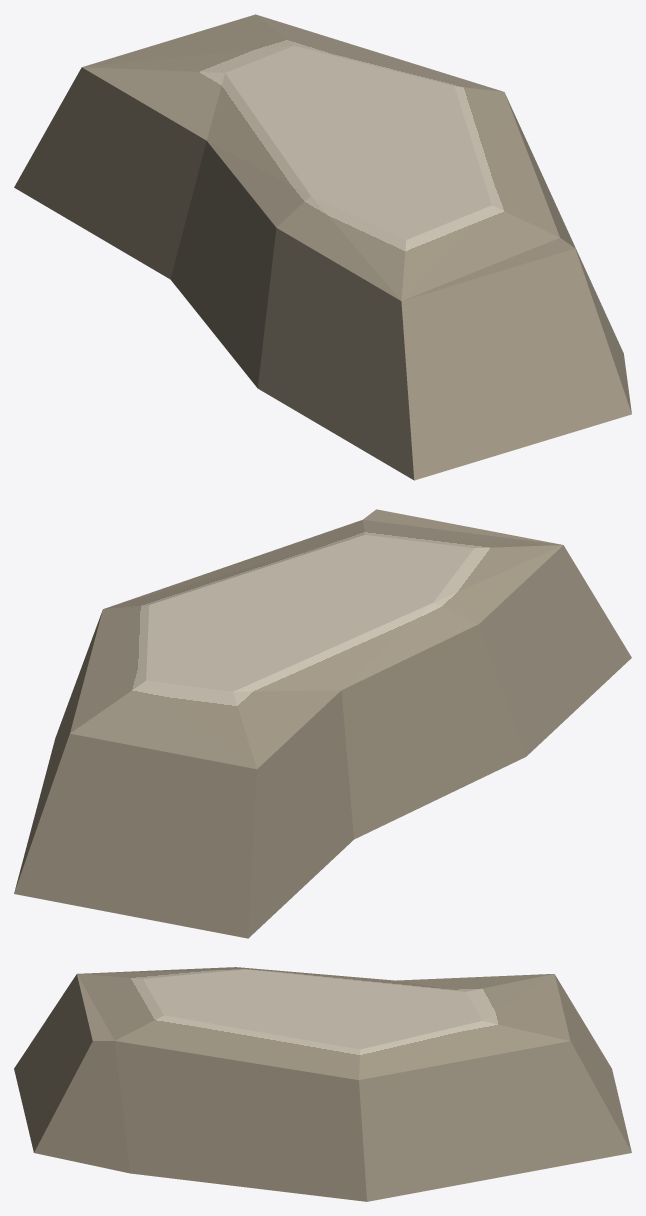
Rendered from Rock_05.fbx.
3 renders of one model, top to bottom at view 1: azimuth 30°, elevation 25°; view 2: azimuth 150°, elevation 25°; view 3: azimuth 270°, elevation 25°, orthographic. The views are drawn at different scales.
Parts seen in each view (by area): view 1: Rock_05; view 2: Rock_05; view 3: Rock_05.
Part boxes in pixels (left/top/right/bottom): Rock_05: left=14, top=14, right=631, bottom=480; Rock_05: left=14, top=509, right=631, bottom=938; Rock_05: left=14, top=967, right=631, bottom=1201.
Size of the model in its own units: 33.99 by 13.24 by 62.7.
1 material, 1 textured.
